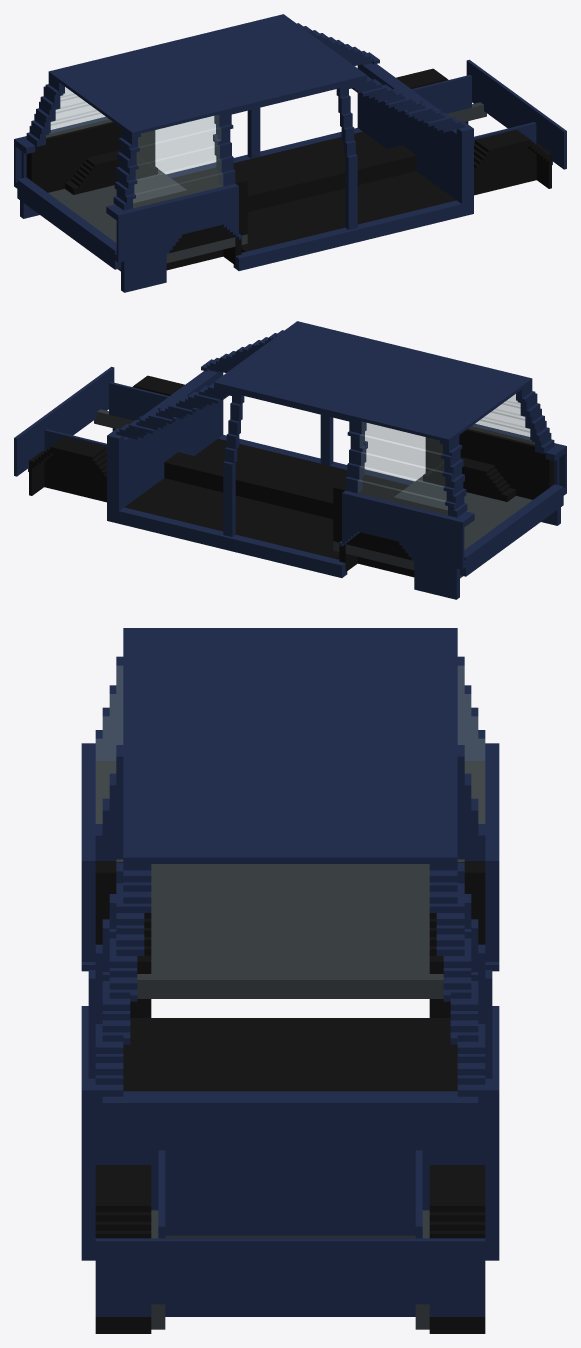
The model's file is minivan_shell.glb.
3 views of the same model, one above another, from view 1: azimuth 30°, elevation 25°; view 2: azimuth 150°, elevation 25°; view 3: azimuth 270°, elevation 25° (orthographic). The views are drawn at different scales.
Parts seen in each view (by area): view 1: body:compound; view 2: body:compound; view 3: body:compound.
Part boxes in pixels (left/top/right/bottom): body:compound: left=14, top=14, right=566, bottom=292; body:compound: left=14, top=321, right=566, bottom=599; body:compound: left=81, top=628, right=499, bottom=1333.
Size of the model in its own units: 4.69 by 1.53 by 1.88.
